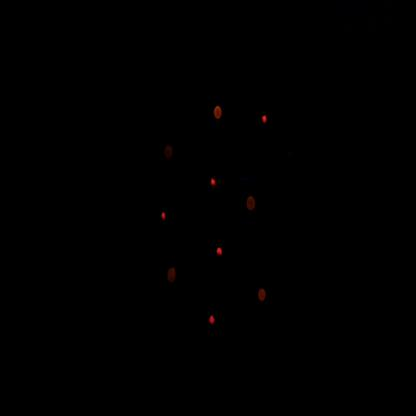PET: (156, 201, 173, 234), (258, 105, 275, 135), (212, 239, 230, 266), (204, 307, 221, 335), (207, 170, 223, 199)
PS: (251, 278, 274, 314), (161, 260, 184, 295), (242, 187, 261, 223), (209, 98, 229, 132), (161, 137, 180, 168)
